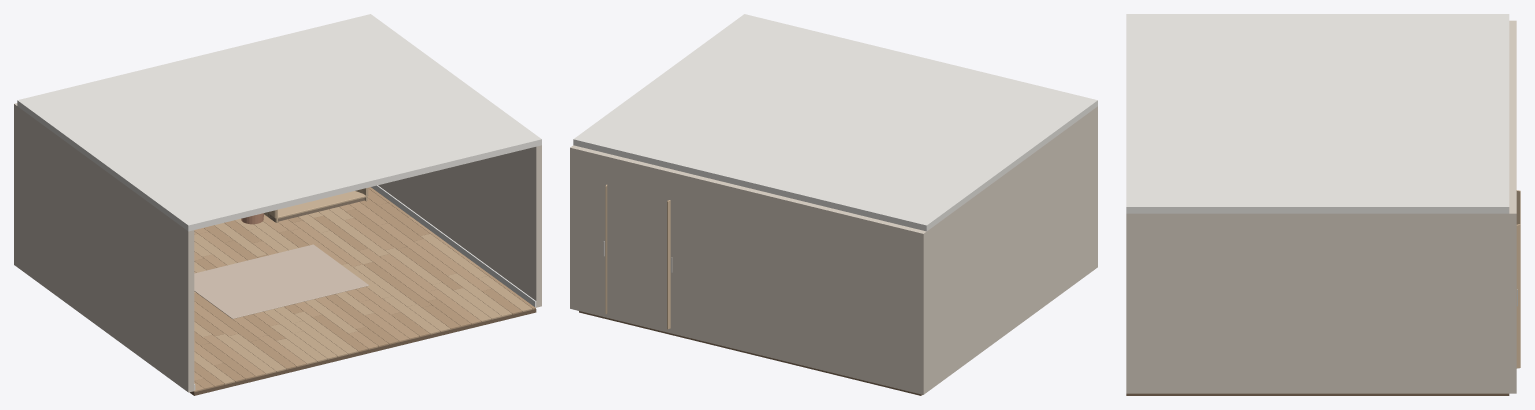
Rendered from habitacion.glb.
3 views of the same model, side by side, from view 1: azimuth 30°, elevation 25°; view 2: azimuth 150°, elevation 25°; view 3: azimuth 270°, elevation 25° (orthographic). The views are drawn at different scales.
Visible parts, largest first — view 1: habitacion; view 2: habitacion; view 3: habitacion.
Part boxes in pixels (x1=…): habitacion: x1=14, y1=14, x2=541, y2=395; habitacion: x1=570, y1=14, x2=1097, y2=395; habitacion: x1=1126, y1=14, x2=1520, y2=395.
Bounding box in the file's own units: 6.2 × 2.88 × 5.36.
